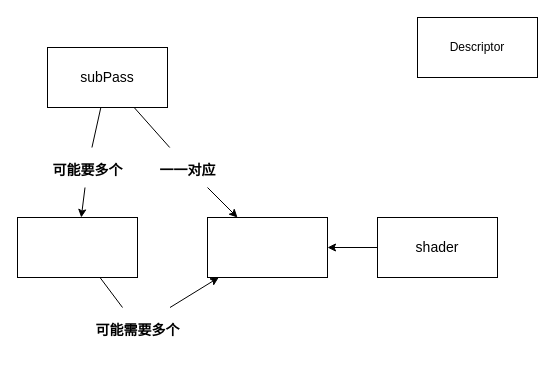
Image size: 555x365. Some labels were removed from this diagram. Each missing label, with the centre of its shape:
Pipeline: the point at 267,247
RenderPass: the point at 77,247
